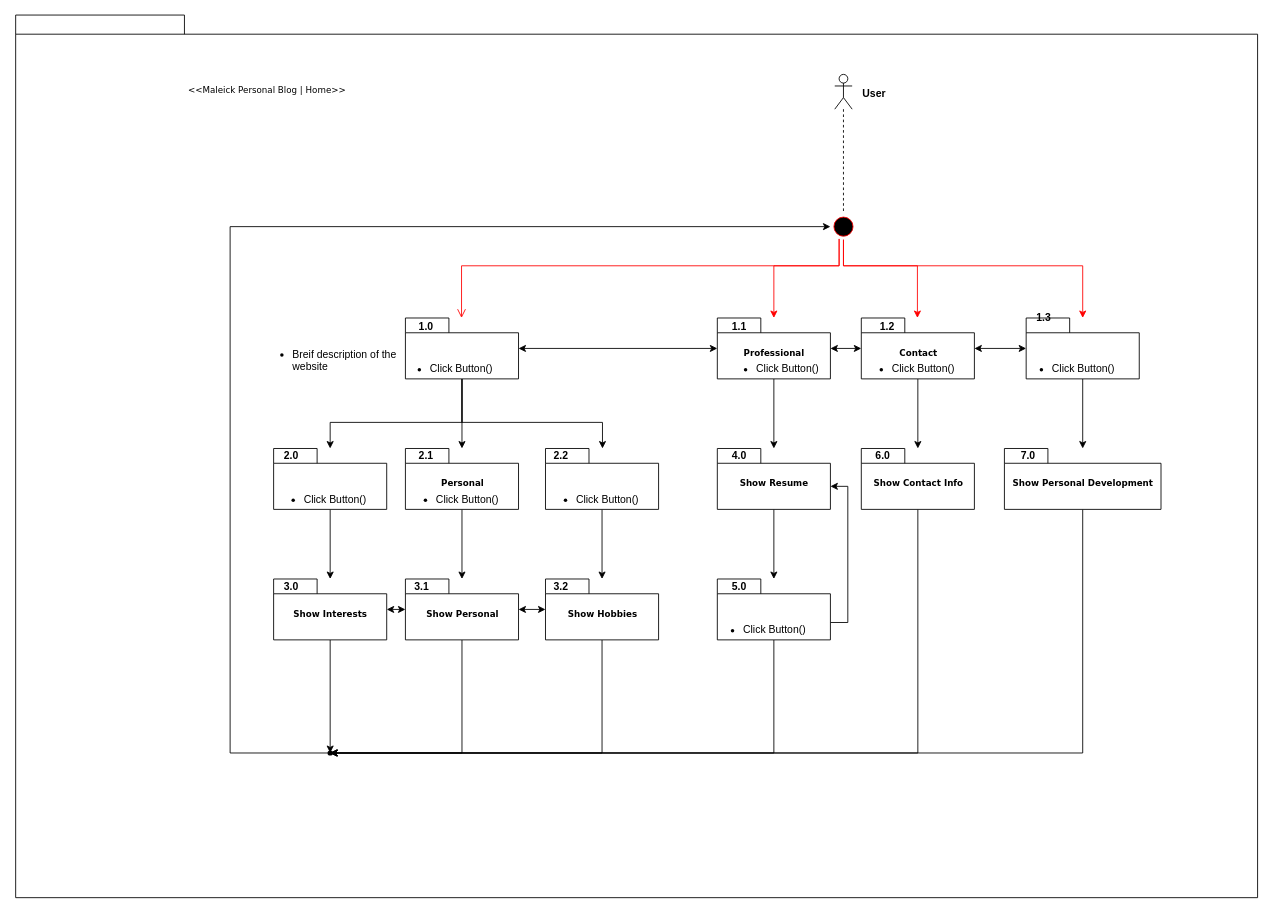
Image size: 1273x914. Some labels were removed from this diagram. Each missing label, with the box of its shape:
Hobbies: (545, 448, 659, 509)
Home: (405, 317, 519, 379)
Interests: (273, 448, 387, 509)
Personal Development: (1025, 317, 1139, 379)
Top button: (716, 578, 830, 640)
